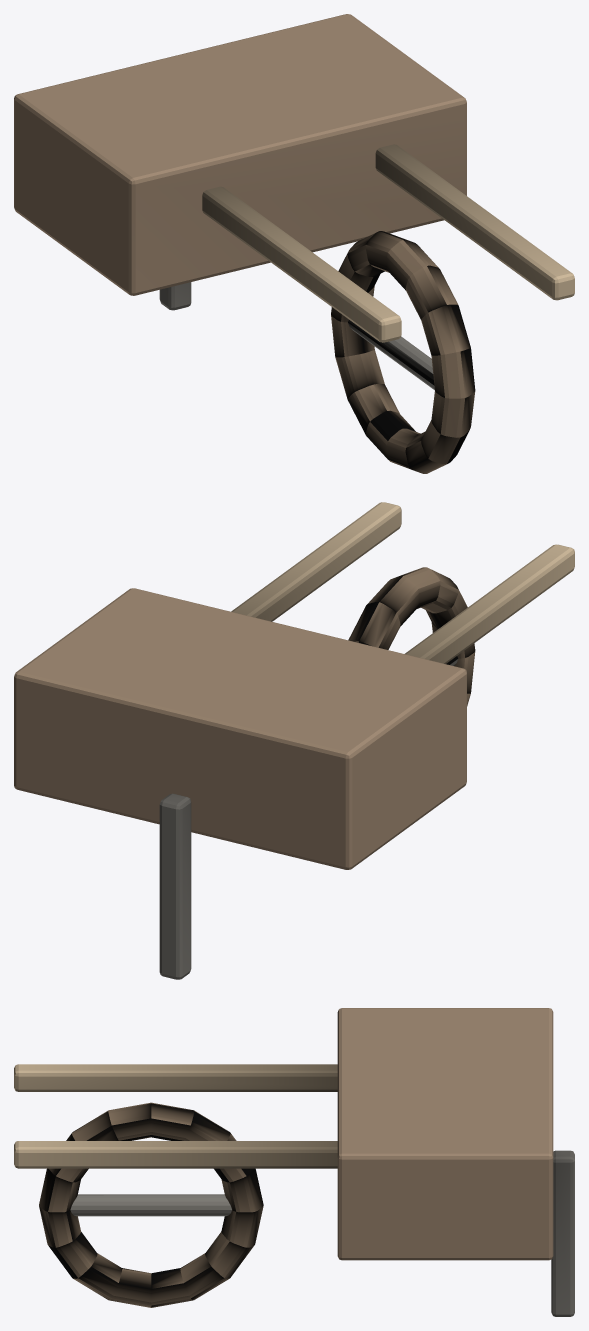
The model's file is wheelbarrow.glb.
The picture shows the model from 3 angles, top to bottom: view 1: azimuth 30°, elevation 25°; view 2: azimuth 150°, elevation 25°; view 3: azimuth 270°, elevation 25°; orthographic projection. The views are drawn at different scales.
Visible parts, largest first — view 1: tub; view 2: tub; view 3: tub.
Part boxes in pixels (bbox=[...]): tub: bbox=[14, 14, 574, 473]; tub: bbox=[14, 502, 574, 979]; tub: bbox=[14, 1008, 574, 1316].
Size of the model in its own units: 0.9 by 0.655 by 1.43.
